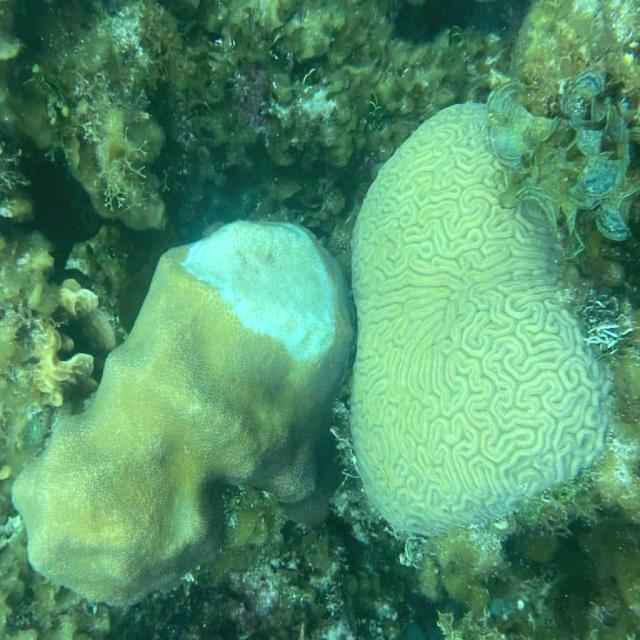Coral: (10, 217, 353, 611), (348, 100, 605, 538)
